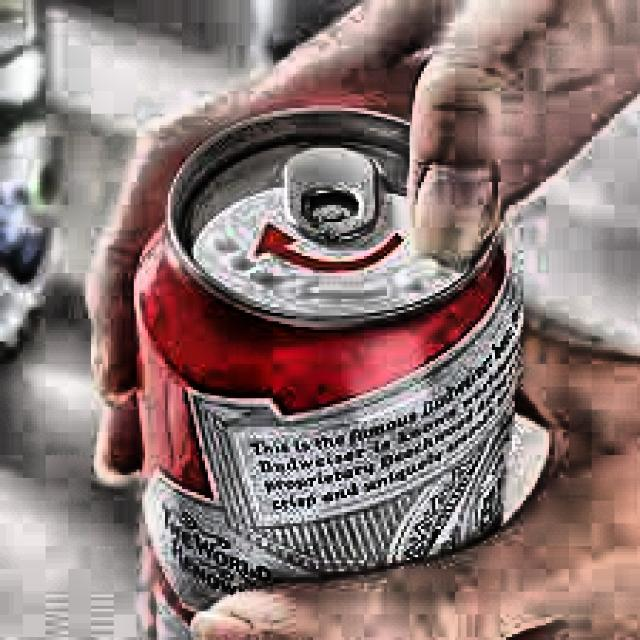can: (132, 99, 523, 640)
